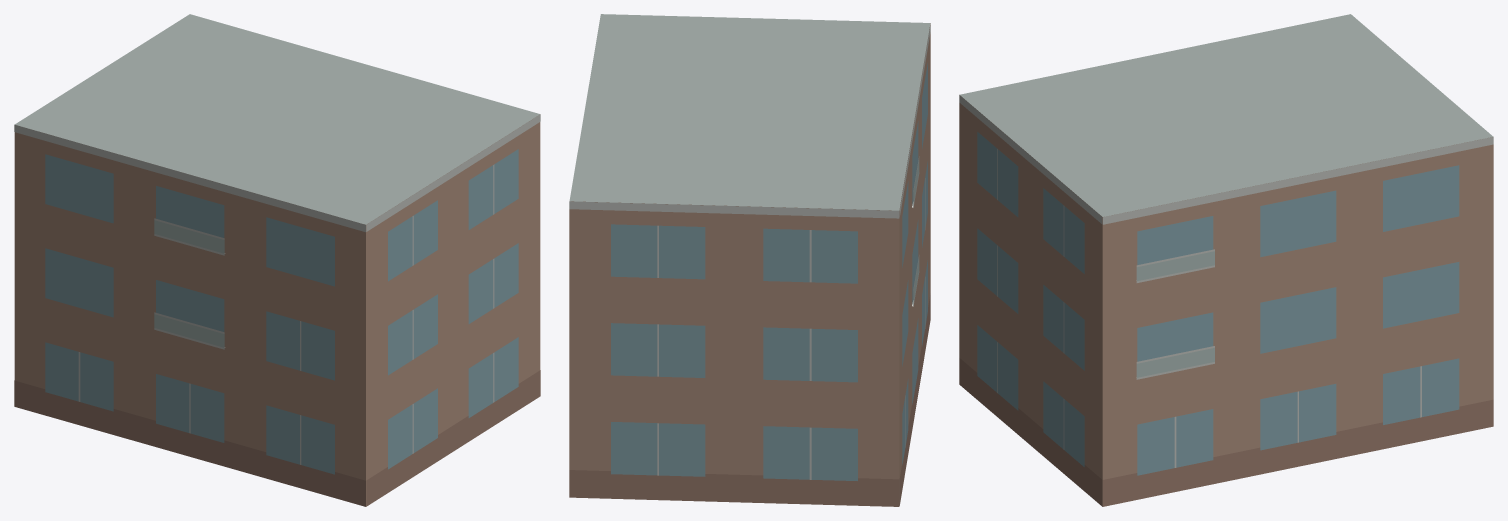
The model's file is survey-upis-32602862.glb.
The picture shows the model from 3 angles, left to right: view 1: azimuth 30°, elevation 25°; view 2: azimuth 150°, elevation 25°; view 3: azimuth 270°, elevation 25°; orthographic projection. The views are drawn at different scales.
Parts seen in each view (by area): view 1: survey-upis-32602862.tmp; view 2: survey-upis-32602862.tmp; view 3: survey-upis-32602862.tmp.
Part boxes in pixels (left/top/right/bottom): survey-upis-32602862.tmp: left=14, top=14, right=540, bottom=506; survey-upis-32602862.tmp: left=569, top=14, right=930, bottom=506; survey-upis-32602862.tmp: left=959, top=14, right=1493, bottom=506.
Size of the model in its own units: 13.76 by 9.15 by 15.3.
